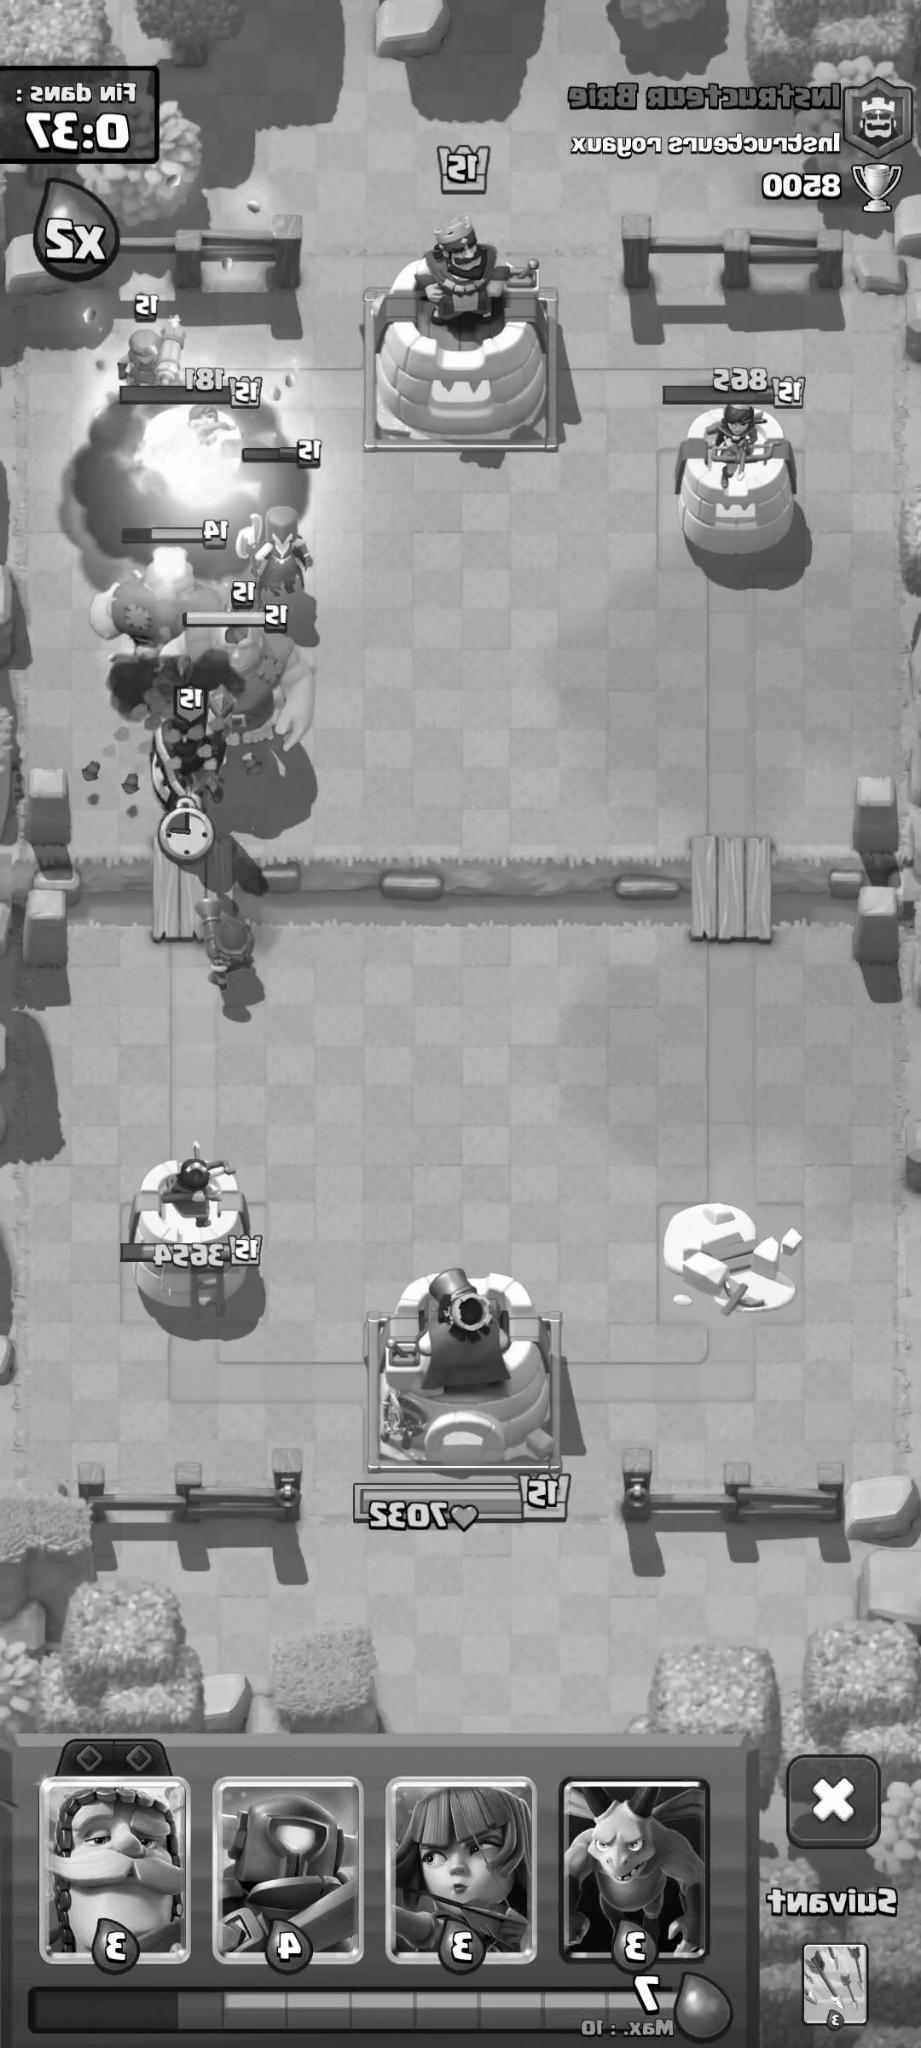geant: (73, 521, 233, 688), (155, 611, 307, 780)
mousquetaire: (176, 882, 269, 993)
